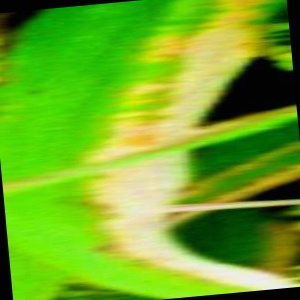Leaf_Blast: (6, 4, 229, 281)
